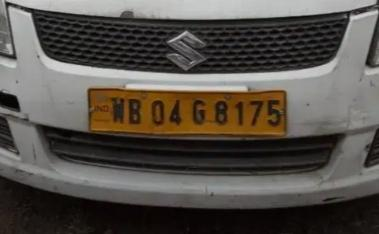0: (150, 93, 167, 130)
1: (233, 96, 246, 131)
4: (167, 99, 183, 132)
5: (266, 97, 285, 131)
7: (247, 96, 265, 127)
8: (213, 97, 229, 128)
B: (127, 93, 145, 129)
G: (189, 96, 207, 127)
W: (108, 93, 127, 129)
